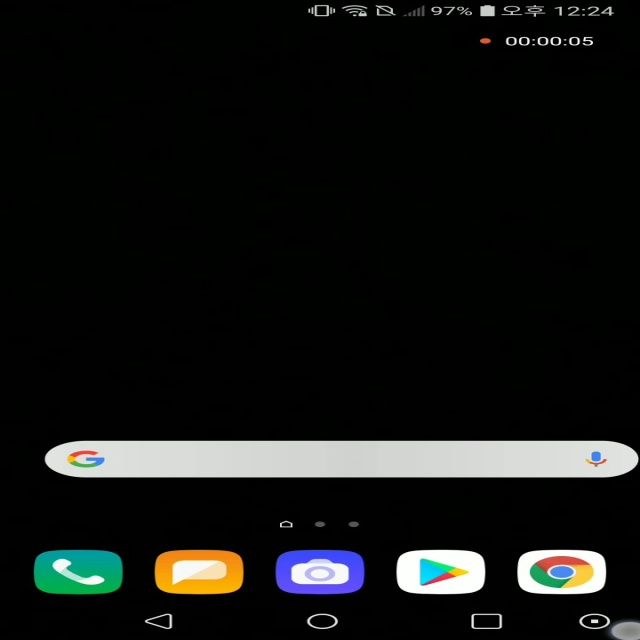Cursor: (608, 620, 640, 640)
